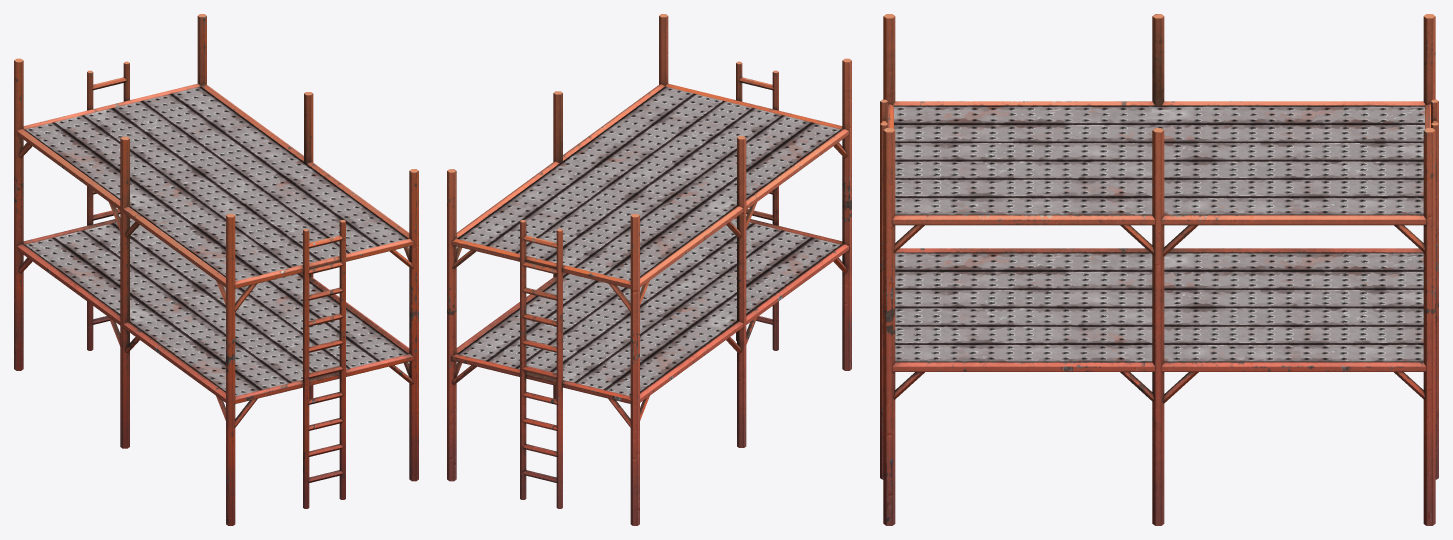
File: scaffold_2.fbx
3 views of the same model, side by side, from view 1: azimuth 30°, elevation 25°; view 2: azimuth 150°, elevation 25°; view 3: azimuth 270°, elevation 25° (orthographic). The views are drawn at different scales.
Visible parts, largest first — view 1: Cube_015.002_cell.016; view 2: Cube_015.002_cell.016; view 3: Cube_015.002_cell.016.
Boxes of the visible parts, x1=… form: Cube_015.002_cell.016: x1=14, y1=14, x2=418, y2=525; Cube_015.002_cell.016: x1=447, y1=14, x2=851, y2=525; Cube_015.002_cell.016: x1=880, y1=14, x2=1438, y2=525.
Bounding box in the file's own units: 1038 × 1608 × 2069.
